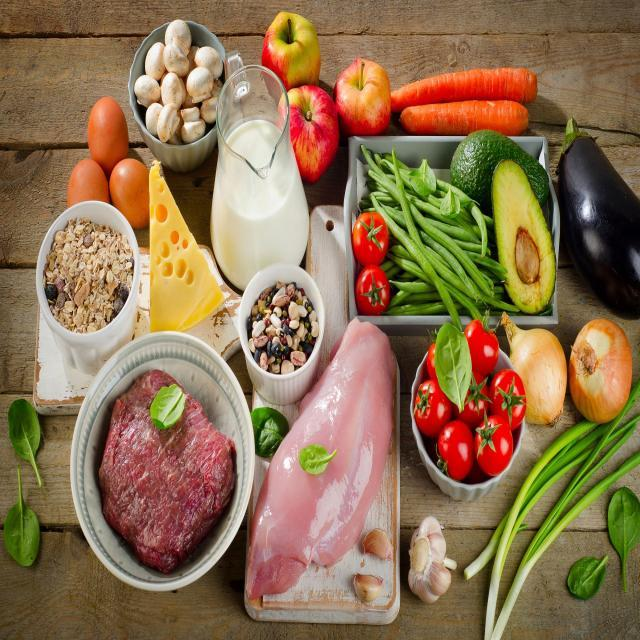carrot: (390, 68, 542, 106), (403, 93, 529, 135)
egg: (108, 155, 152, 221), (90, 99, 126, 166), (68, 163, 106, 211)
garlic: (407, 511, 454, 605), (354, 567, 387, 613), (365, 523, 391, 565)
onion: (503, 318, 571, 435), (573, 316, 635, 426)
tomato: (478, 417, 517, 478), (463, 312, 502, 372), (438, 415, 472, 479), (353, 267, 392, 319), (494, 369, 528, 427), (411, 383, 446, 431), (356, 213, 388, 261)
